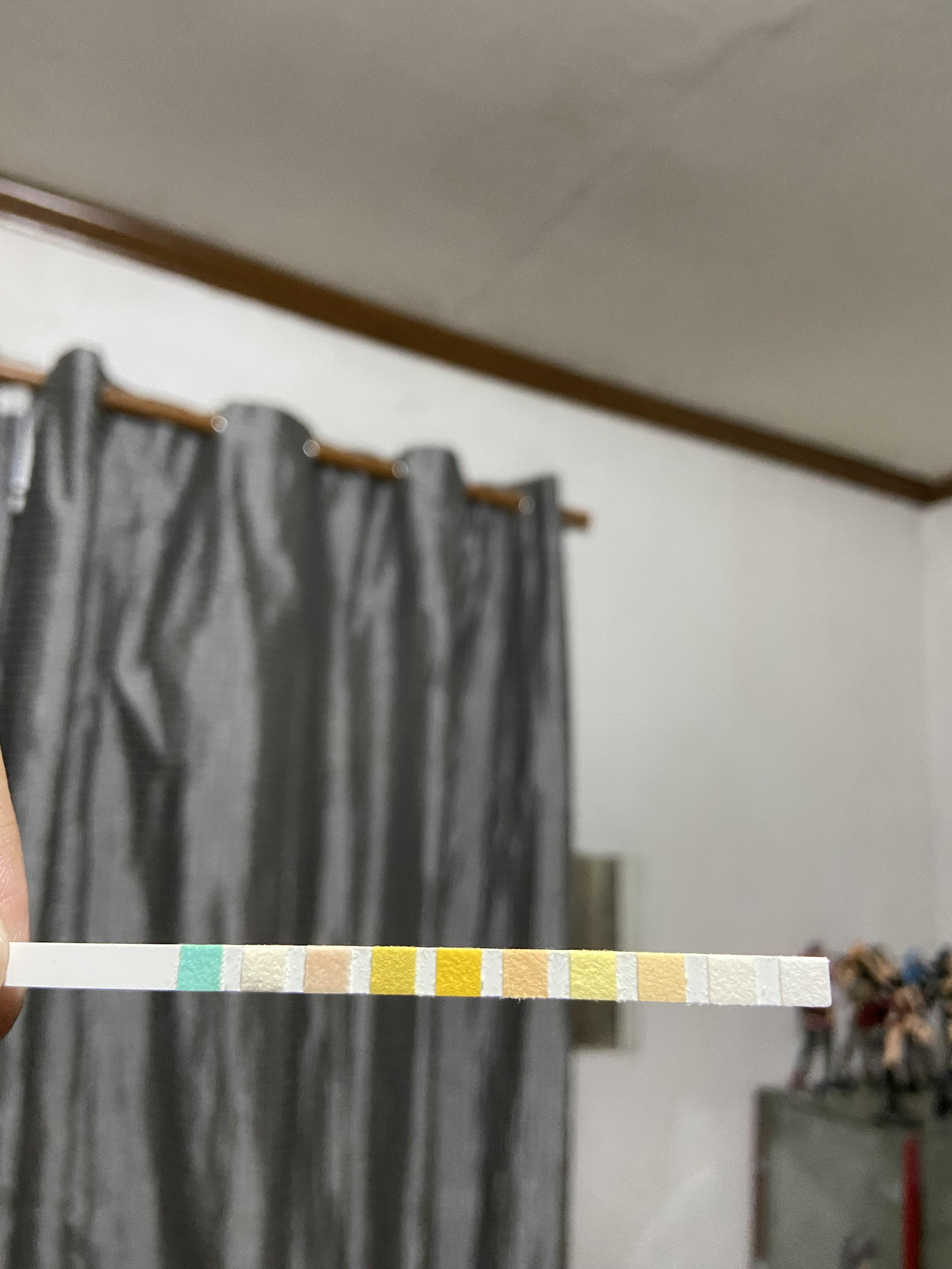Bilirubin: (247, 949, 284, 988)
Blood: (439, 952, 478, 993)
Glucose: (183, 947, 219, 989)
Ketone: (309, 949, 347, 990)
Leukocytes: (784, 962, 828, 1004)
Nitrite: (711, 958, 754, 1001)
Protein: (573, 955, 614, 996)
SpGravity: (373, 949, 413, 993)
Urobilinogen: (642, 958, 681, 999)
pH: (507, 952, 545, 995)
strip: (14, 942, 830, 1007)
